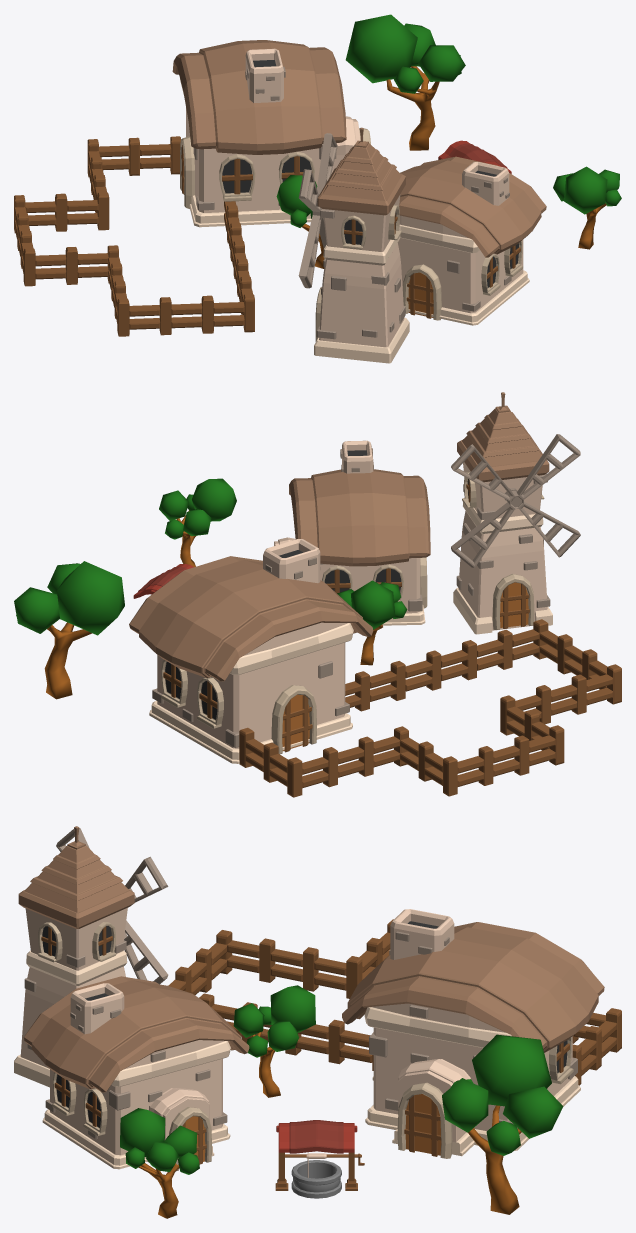
The model's file is village.fbx.
3 renders of one model, top to bottom at view 1: azimuth 30°, elevation 25°; view 2: azimuth 150°, elevation 25°; view 3: azimuth 270°, elevation 25°, orthographic. The views are drawn at different scales.
Parts seen in each view (by area): view 1: Cube.105, Cube, Cube.033, Cube.142, newtree.001, newtree.002, Cube.001, newtree.003, Cylinder.007; view 2: Cube.105, Cube.142, Cube, Cube.033, newtree.001, Cube.001, newtree.002, newtree.003, Cylinder.007; view 3: Cube.105, Cube, Cube.033, Cube.142, newtree.001, Cylinder.007, newtree.002, newtree.003, Cube.001.
Boxes of the visible parts, x1=… form: Cube.105: x1=172, y1=40, x2=370, y2=227; Cube: x1=398, y1=156, x2=546, y2=325; Cube.033: x1=314, y1=127, x2=409, y2=363; Cube.142: x1=14, y1=136, x2=254, y2=336; newtree.001: x1=345, y1=14, x2=465, y2=150; newtree.002: x1=553, y1=166, x2=621, y2=249; Cube.001: x1=298, y1=133, x2=337, y2=288; newtree.003: x1=276, y1=175, x2=324, y2=268; Cylinder.007: x1=438, y1=140, x2=511, y2=173; Cube.105: x1=129, y1=539, x2=373, y2=763; Cube.142: x1=239, y1=619, x2=621, y2=797; Cube: x1=274, y1=440, x2=430, y2=625; Cube.033: x1=453, y1=392, x2=552, y2=634; newtree.001: x1=14, y1=561, x2=124, y2=699; Cube.001: x1=451, y1=434, x2=580, y2=567; newtree.002: x1=159, y1=478, x2=236, y2=566; newtree.003: x1=337, y1=580, x2=407, y2=665; Cylinder.007: x1=133, y1=563, x2=193, y2=598; Cube.105: x1=342, y1=909, x2=604, y2=1158; Cube: x1=23, y1=976, x2=249, y2=1171; Cube.033: x1=14, y1=826, x2=134, y2=1087; Cube.142: x1=168, y1=919, x2=621, y2=1085; newtree.001: x1=442, y1=1034, x2=563, y2=1214; Cylinder.007: x1=275, y1=1120, x2=364, y2=1198; newtree.002: x1=120, y1=1108, x2=199, y2=1218; newtree.003: x1=233, y1=985, x2=315, y2=1097; Cube.001: x1=56, y1=828, x2=168, y2=984.
Size of the model in its own units: 844 by 353 by 791.
